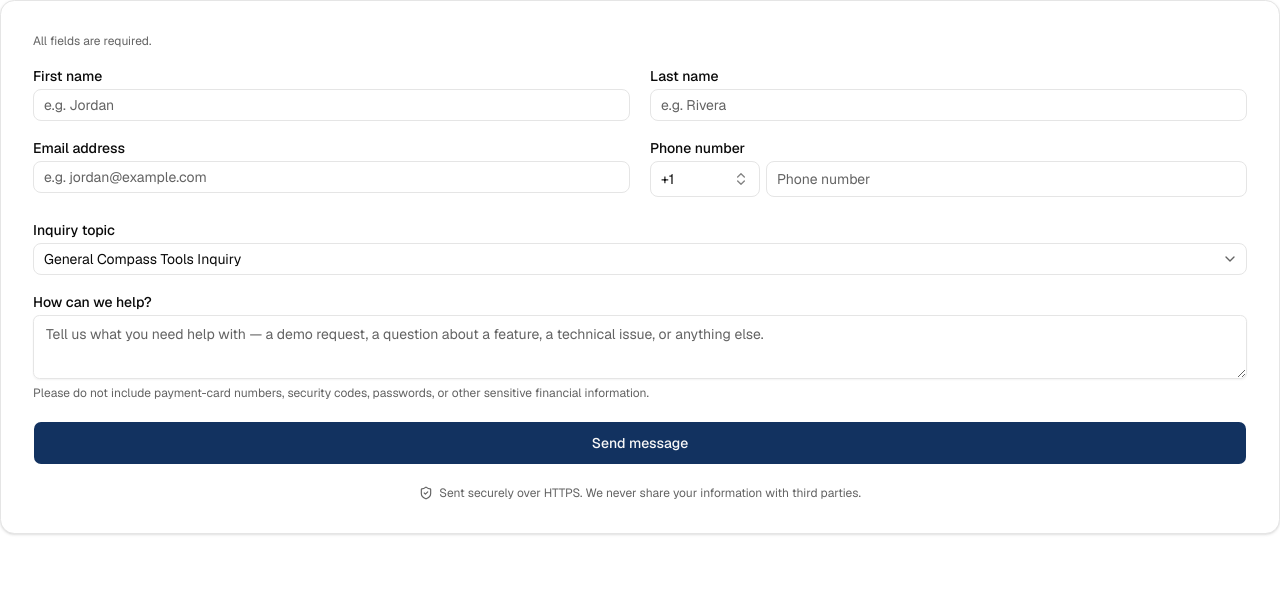
it: ContactForm › shows a generic error message (never a raw server/database error) when the API reports failure
Type "Jane" into the field labelled "First name". click: (332, 105)
box: [33,89,630,121]
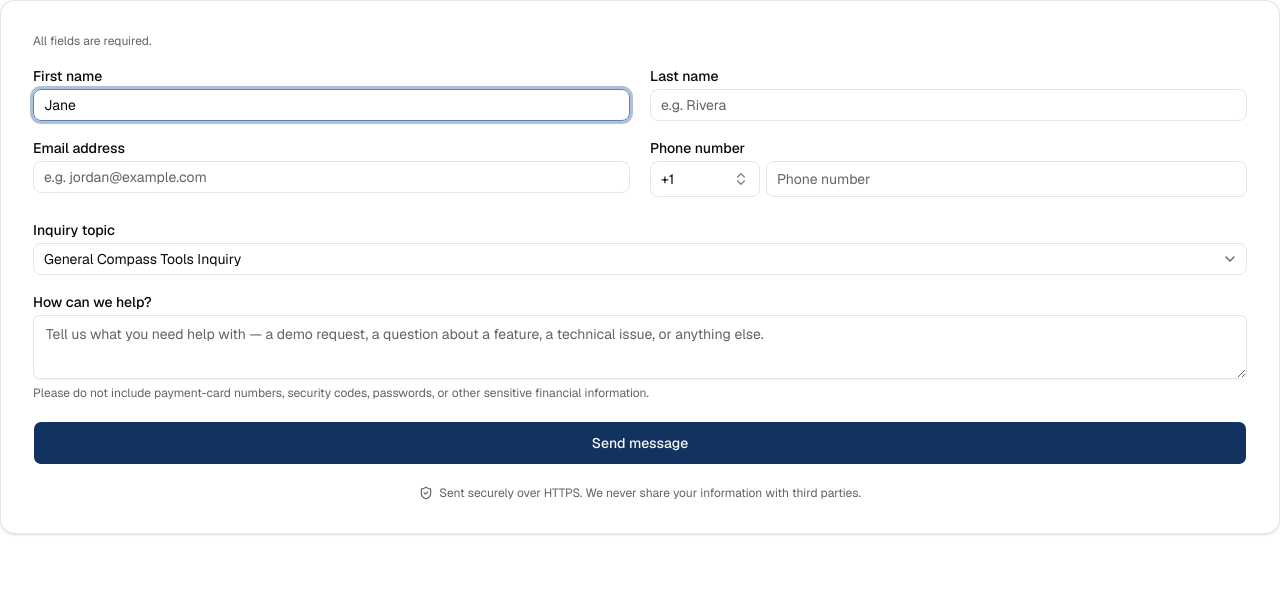
Type "Doe" into the field labelled "Last name". click: (948, 105)
box: [650,89,1247,121]
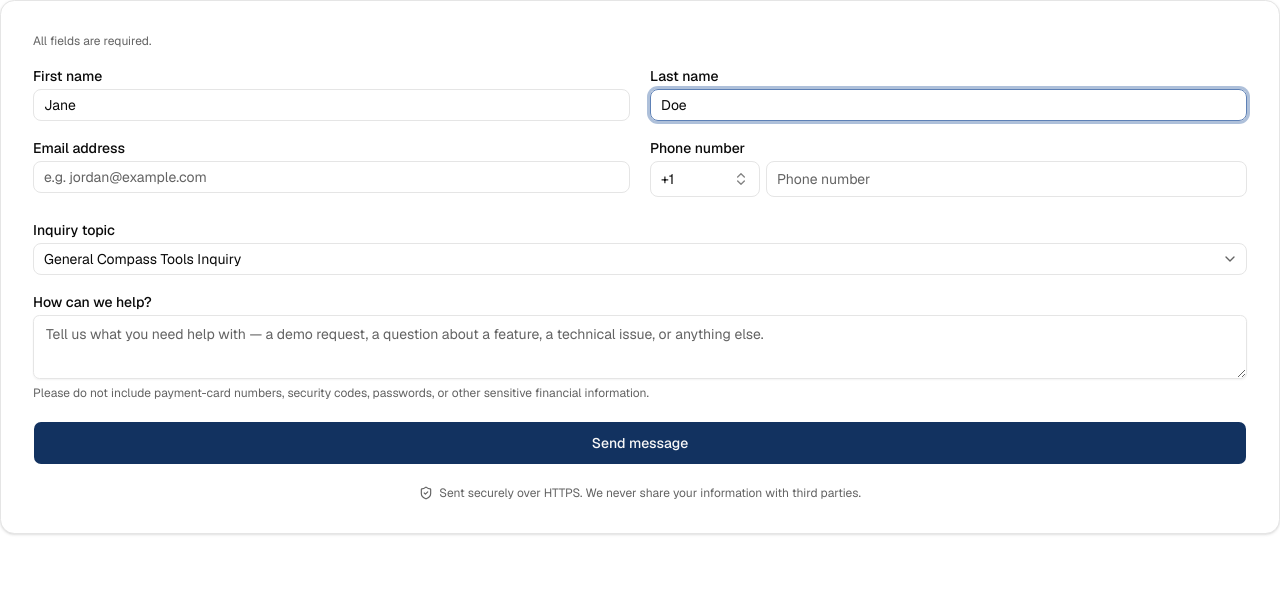
Type "jane@example.com" into the field labelled "Email address". click: (332, 177)
box: [33,161,630,193]
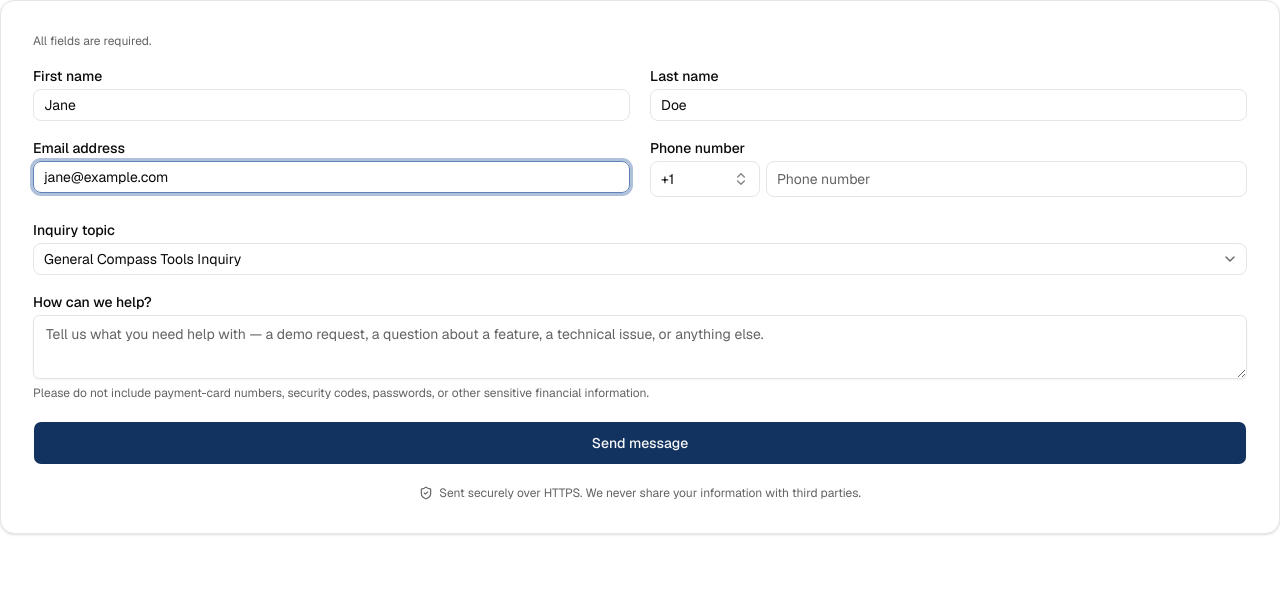
Type "4155550123" into the field with placeholder "Phone number". click: (1006, 179)
box: [766,161,1247,197]
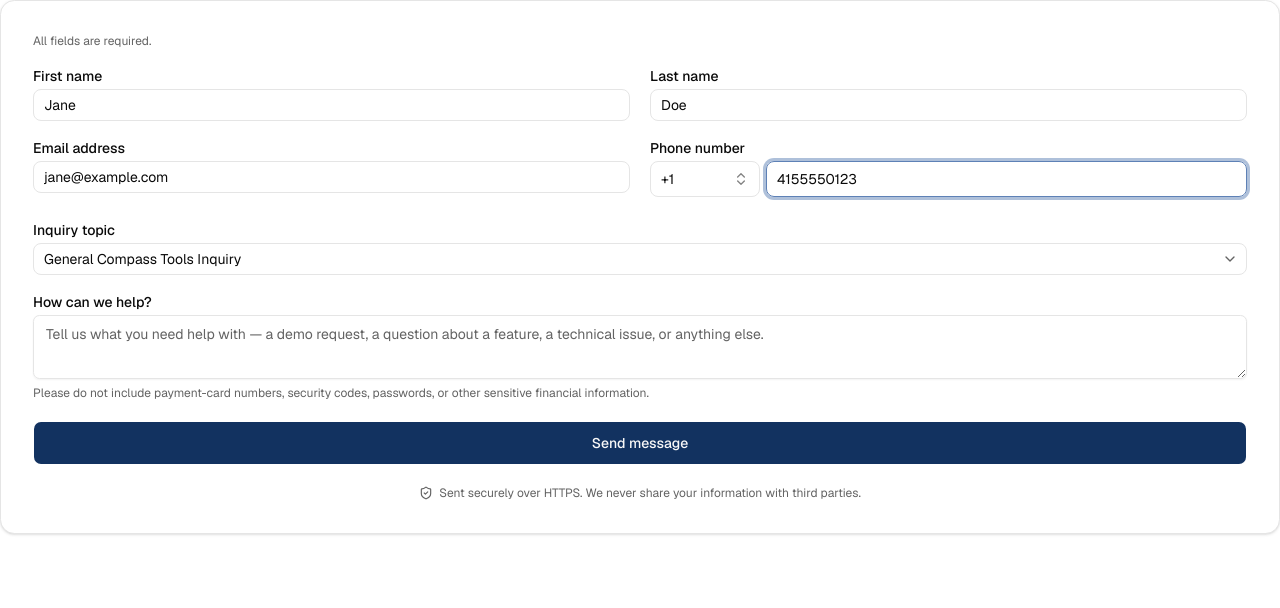
Type "I have a question about an upcoming trip." into the text box labelled "How can we help?". click: (640, 347)
box: [33,315,1247,379]
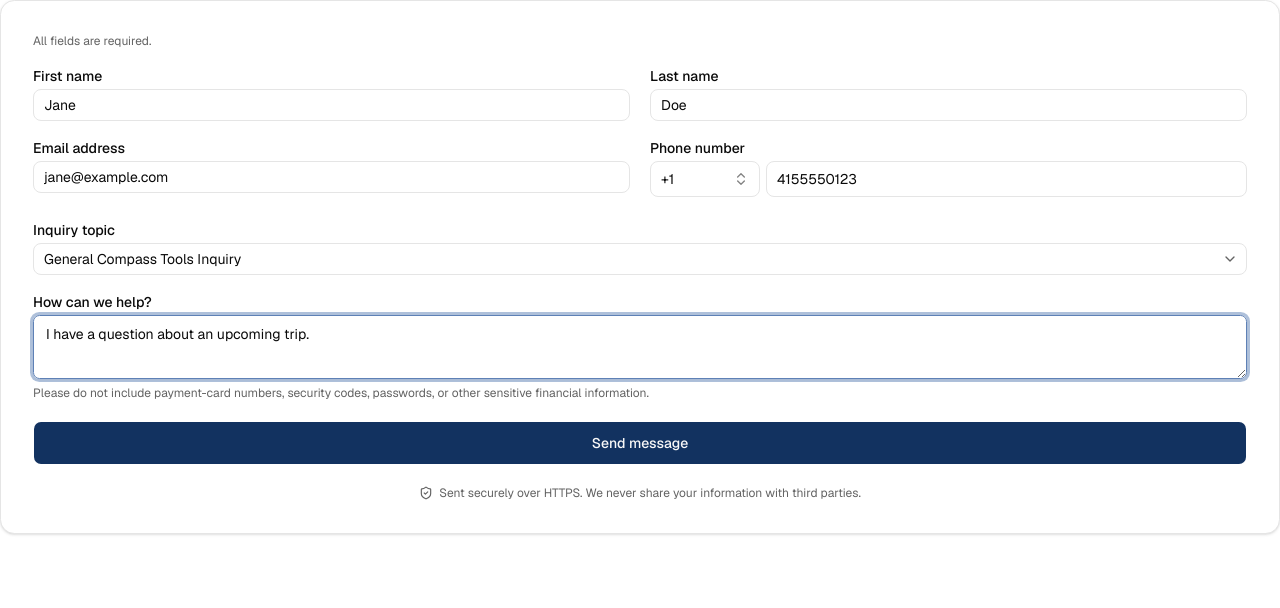
Click the button "Send message". click: (640, 443)
box: [33,421,1247,465]
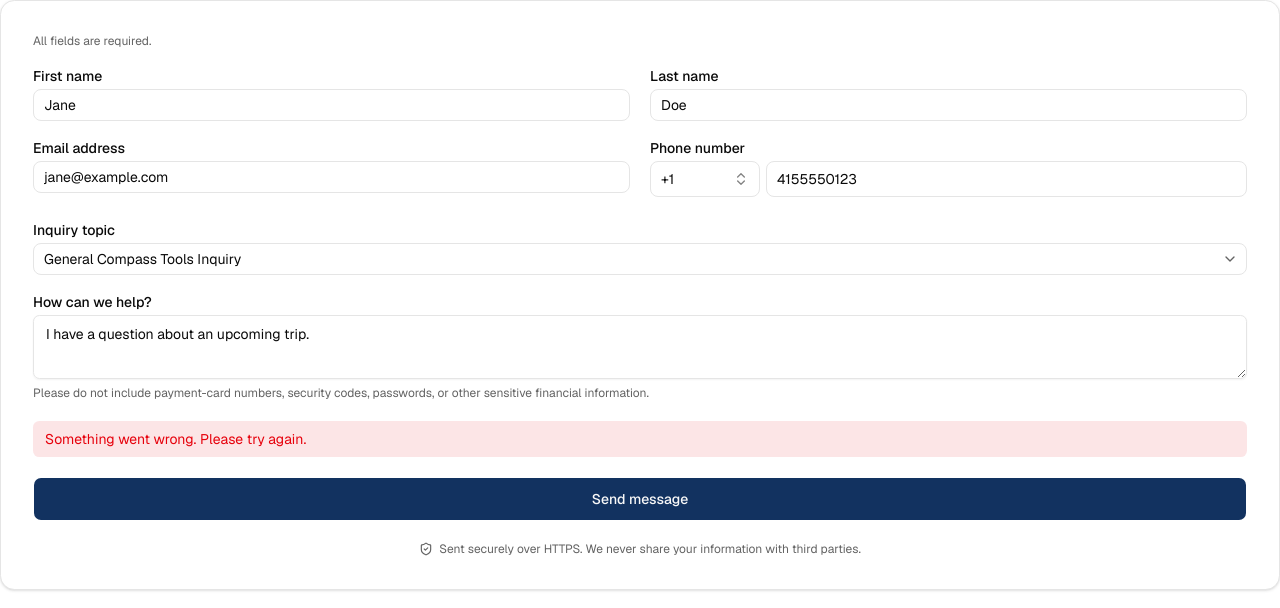
expect the text "Something went wrong. Please try again." is shown: met, box [33,421,1247,457]
